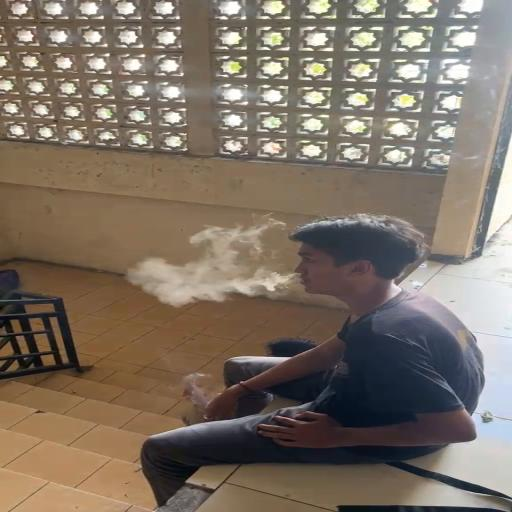asap rokok: (249, 229, 344, 304)
